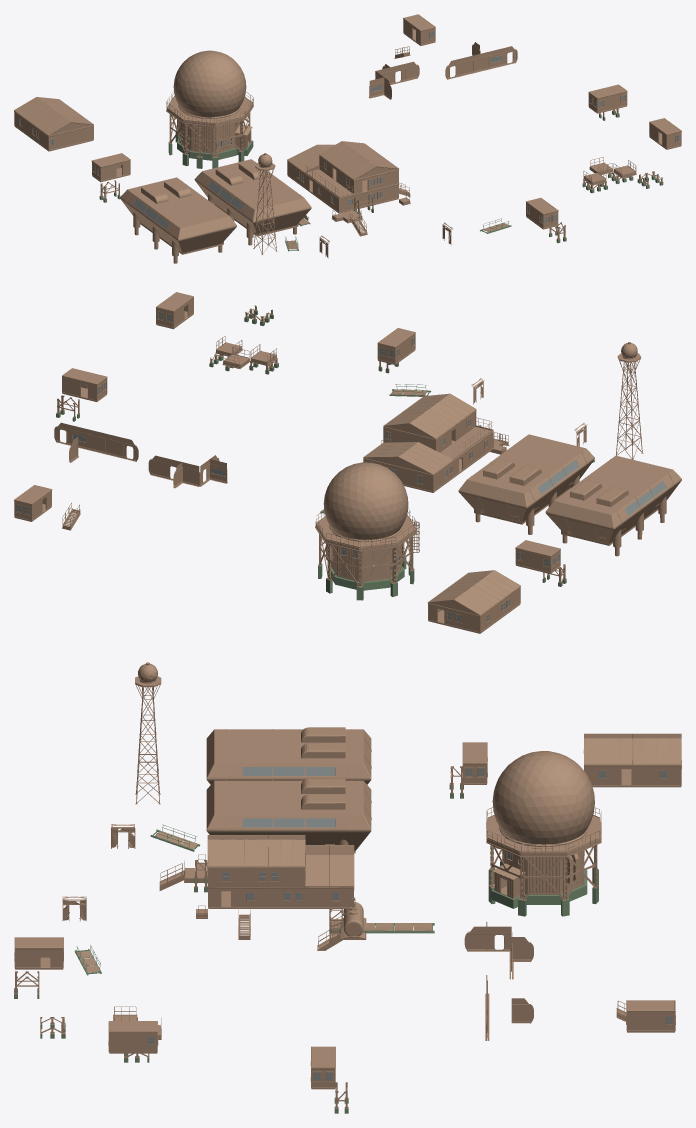
Rendered from arctic_research_base_a-mid.glb.
The picture shows the model from 3 angles, top to bottom: view 1: azimuth 30°, elevation 25°; view 2: azimuth 150°, elevation 25°; view 3: azimuth 270°, elevation 25°; orthographic projection. The views are drawn at different scales.
Visible parts, largest first — view 1: walkway_b_300x300_tjunction (3), walkway_b_support_300x150x300_end, dome_radar_a_LOD0; view 2: walkway_b_300x300_tjunction (3), walkway_b_support_300x150x300_end, dome_radar_a_LOD0; view 3: walkway_b_300x300_tjunction (3), walkway_b_support_300x150x300_end, dome_radar_a_LOD0.
Part boxes in pixels (left/top/right/bottom): walkway_b_300x300_tjunction (3): left=14, top=14, right=681, bottom=263; walkway_b_support_300x150x300_end: left=99, top=111, right=663, bottom=251; dome_radar_a_LOD0: left=19, top=31, right=679, bottom=228; walkway_b_300x300_tjunction (3): left=14, top=292, right=681, bottom=633; walkway_b_support_300x150x300_end: left=56, top=311, right=594, bottom=600; dome_radar_a_LOD0: left=16, top=312, right=665, bottom=621; walkway_b_300x300_tjunction (3): left=14, top=662, right=681, bottom=1108; walkway_b_support_300x150x300_end: left=14, top=783, right=598, bottom=1113; dome_radar_a_LOD0: left=148, top=767, right=672, bottom=1080.
Size of the model in its own units: 97.85 by 24.52 by 82.57.
